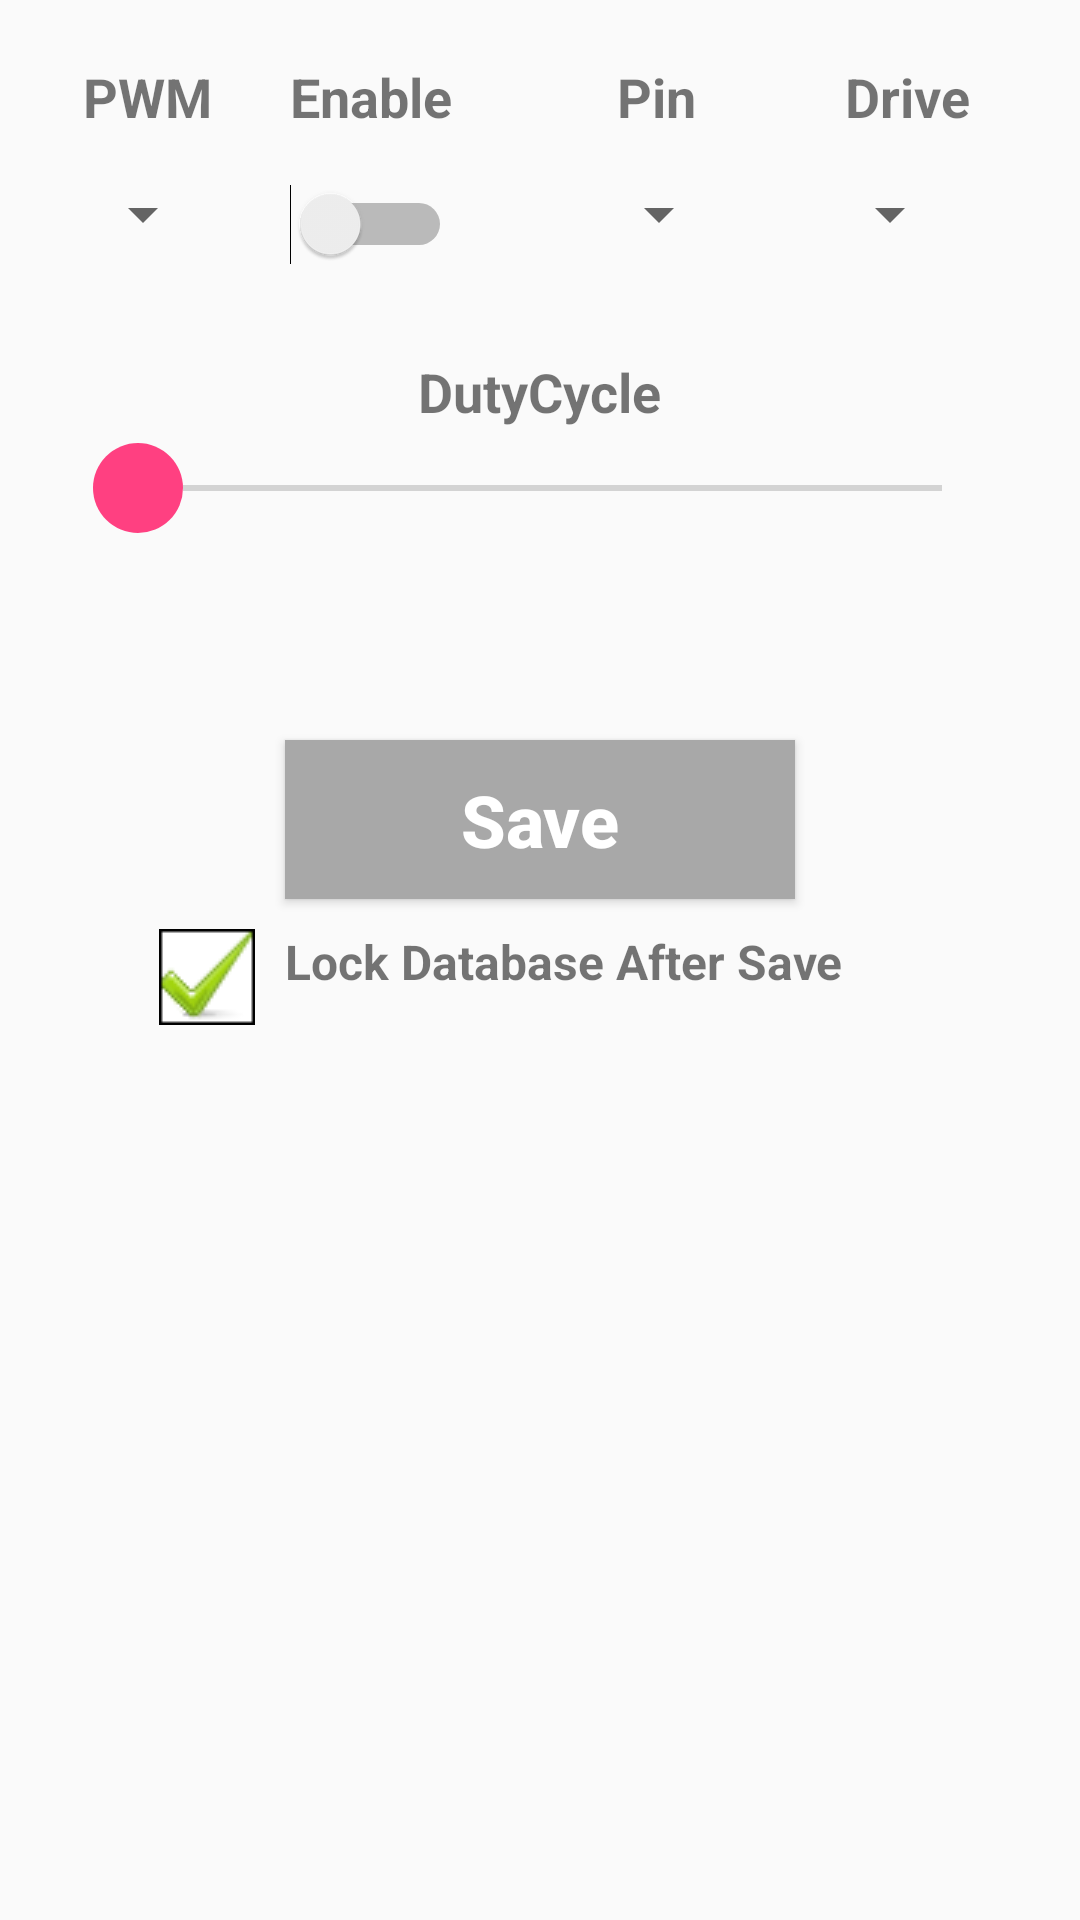

Icon bounding boxes for this 1080 × 1920 phone screenshot, format bbox=[x1, y1, x2, y2]:
ticked: bbox=[159, 929, 255, 1025]
